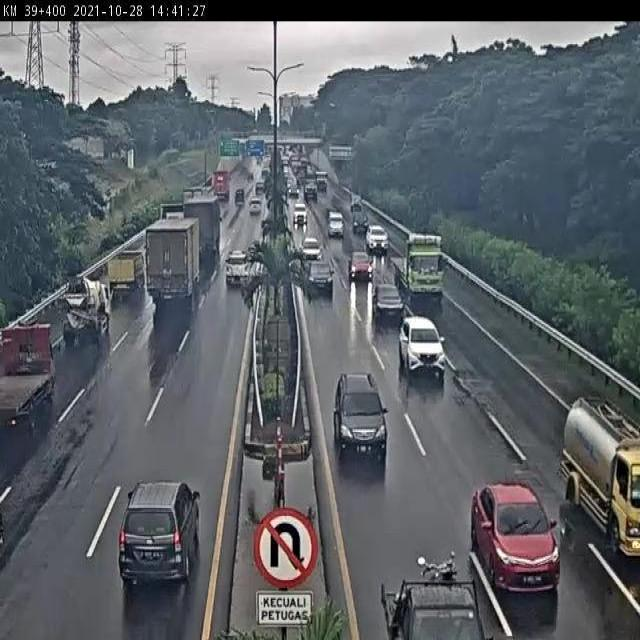car: (468, 481, 563, 595), (118, 480, 201, 584), (331, 372, 387, 461), (400, 316, 446, 380), (371, 284, 405, 325), (304, 260, 334, 297), (224, 249, 251, 287), (347, 252, 373, 281)
mid truck: (144, 216, 201, 300), (387, 226, 445, 302)
small truck: (107, 250, 145, 294)
truck-m-: (561, 396, 640, 561), (0, 322, 61, 429), (60, 272, 113, 341)
